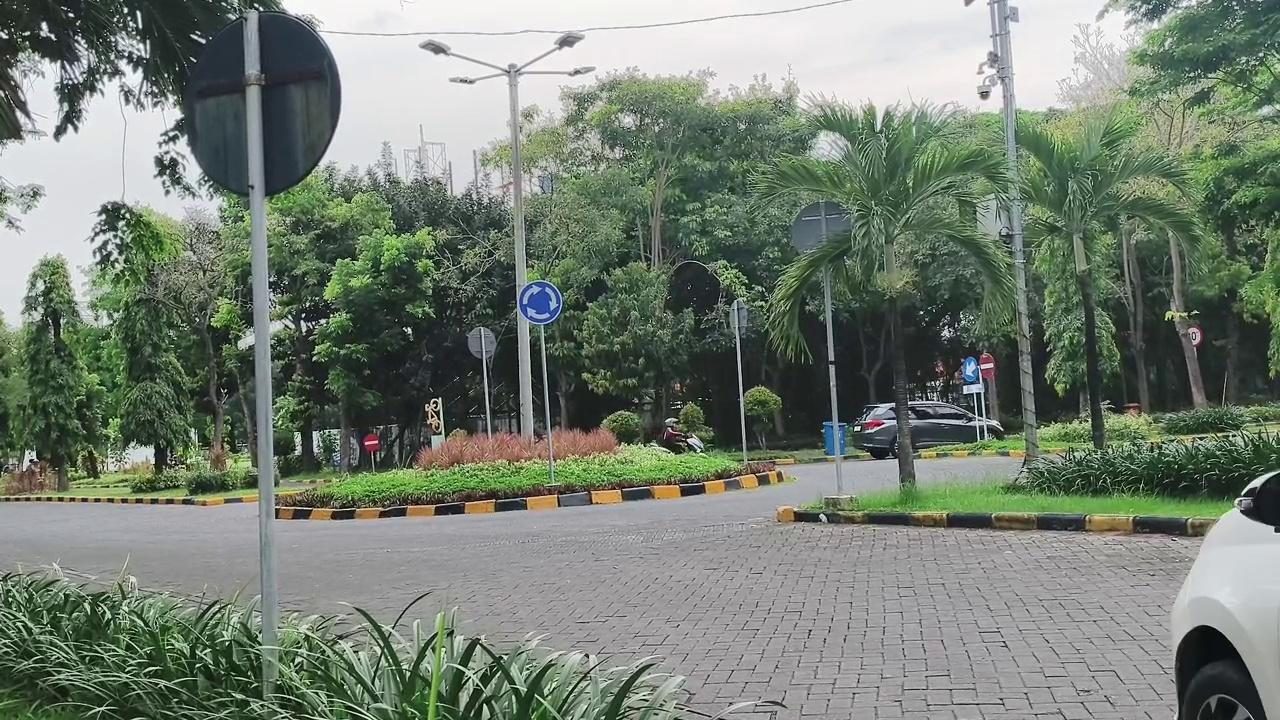Motor: (659, 430, 704, 453)
